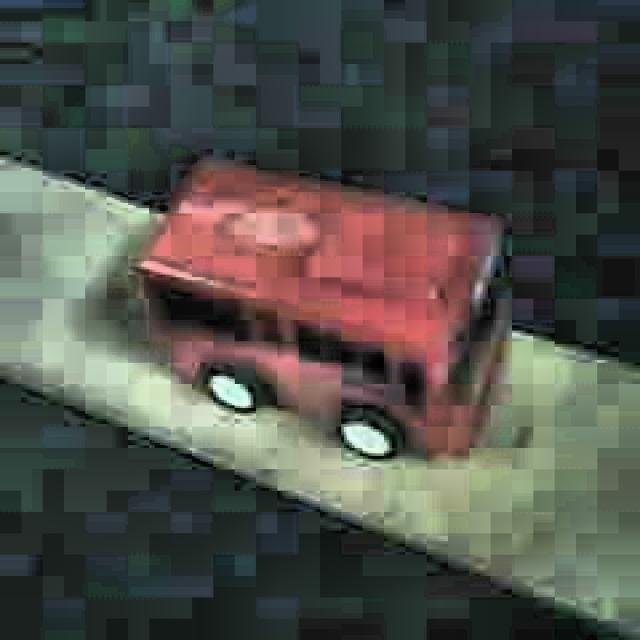bus: (136, 161, 510, 465)
